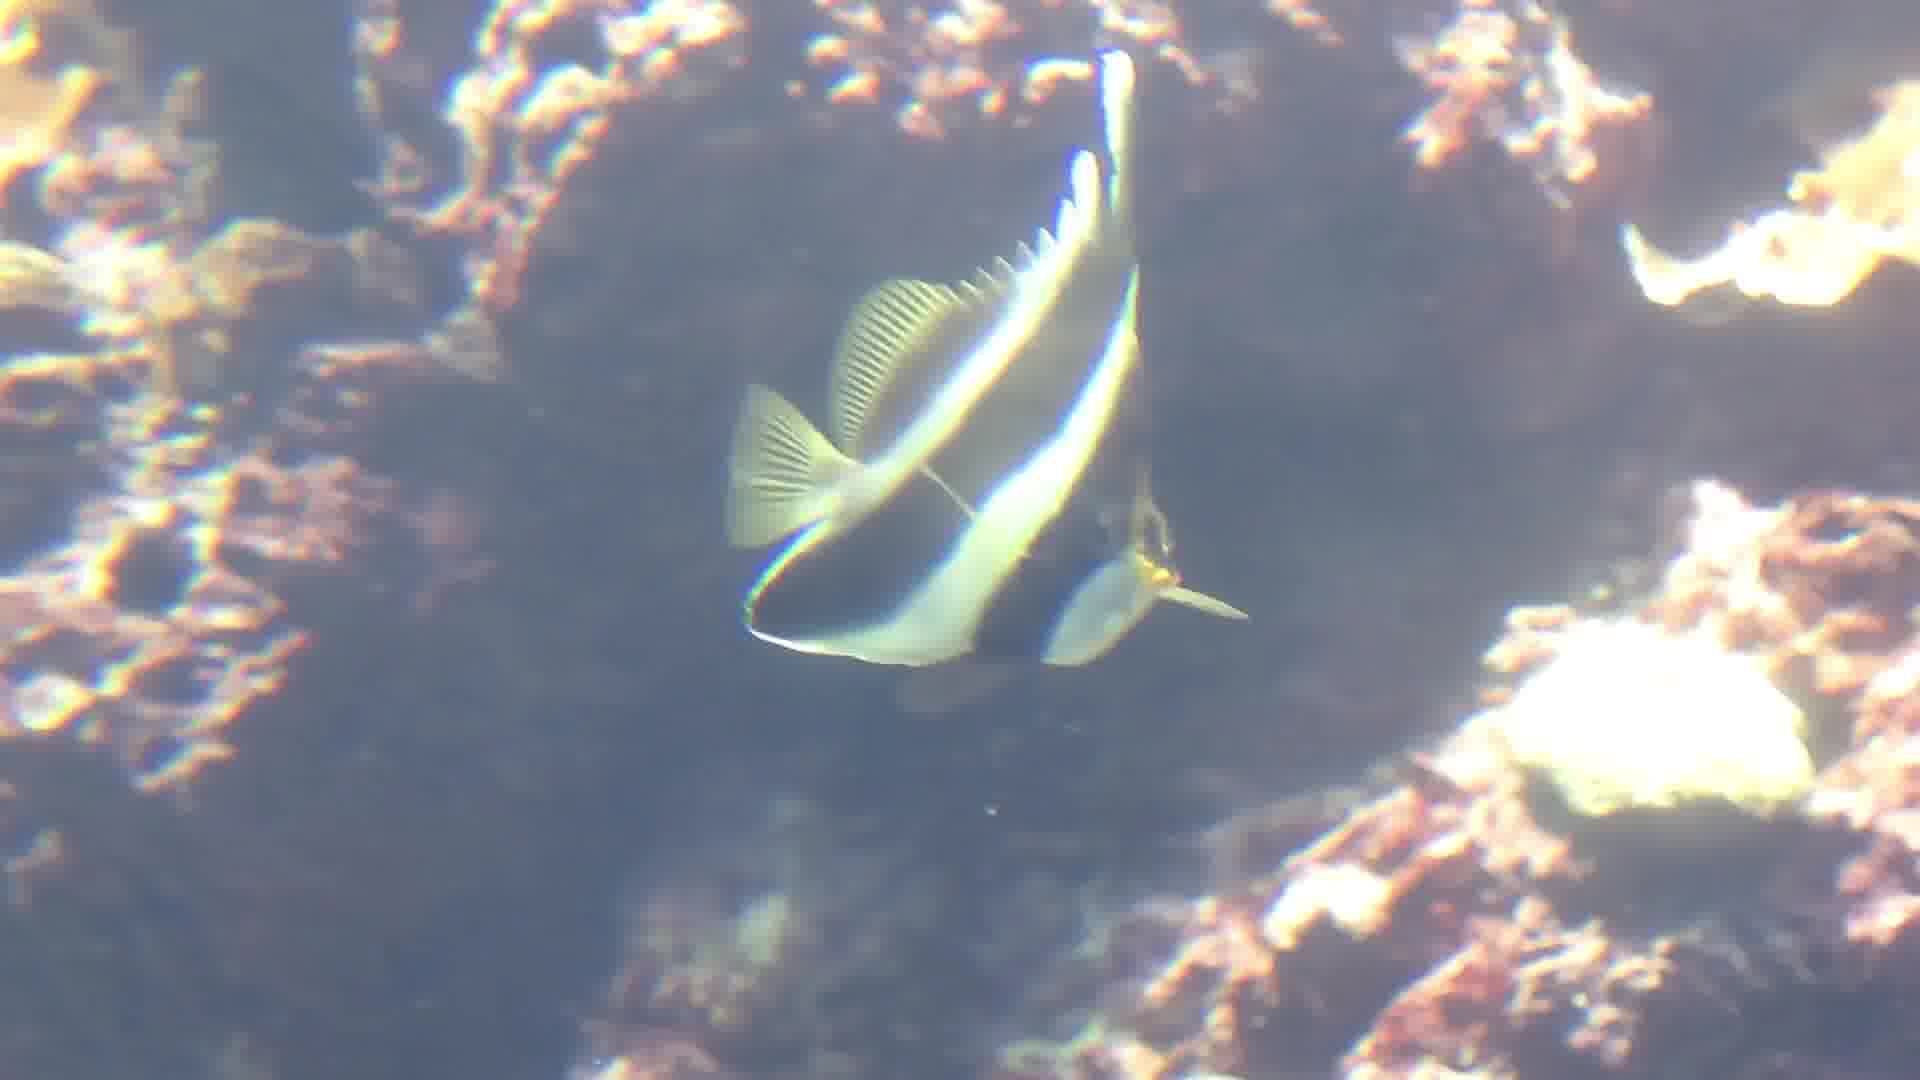Heniochus chrysostomus: (679, 40, 1255, 753)
